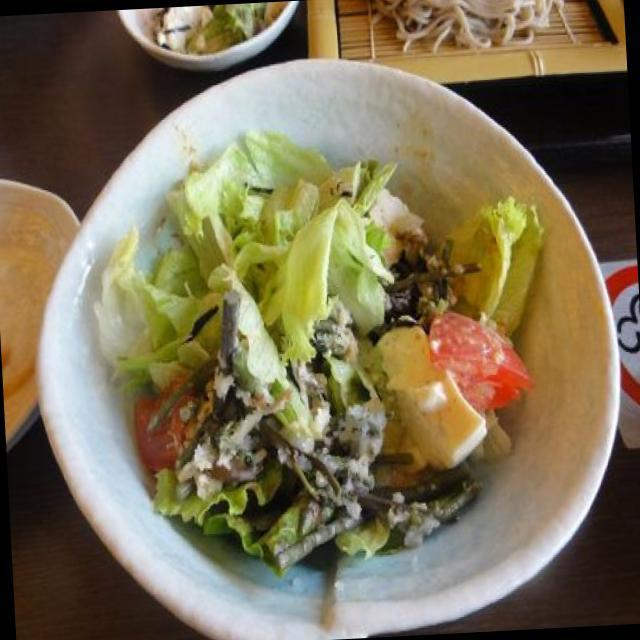Green Salad: (106, 126, 551, 572)
